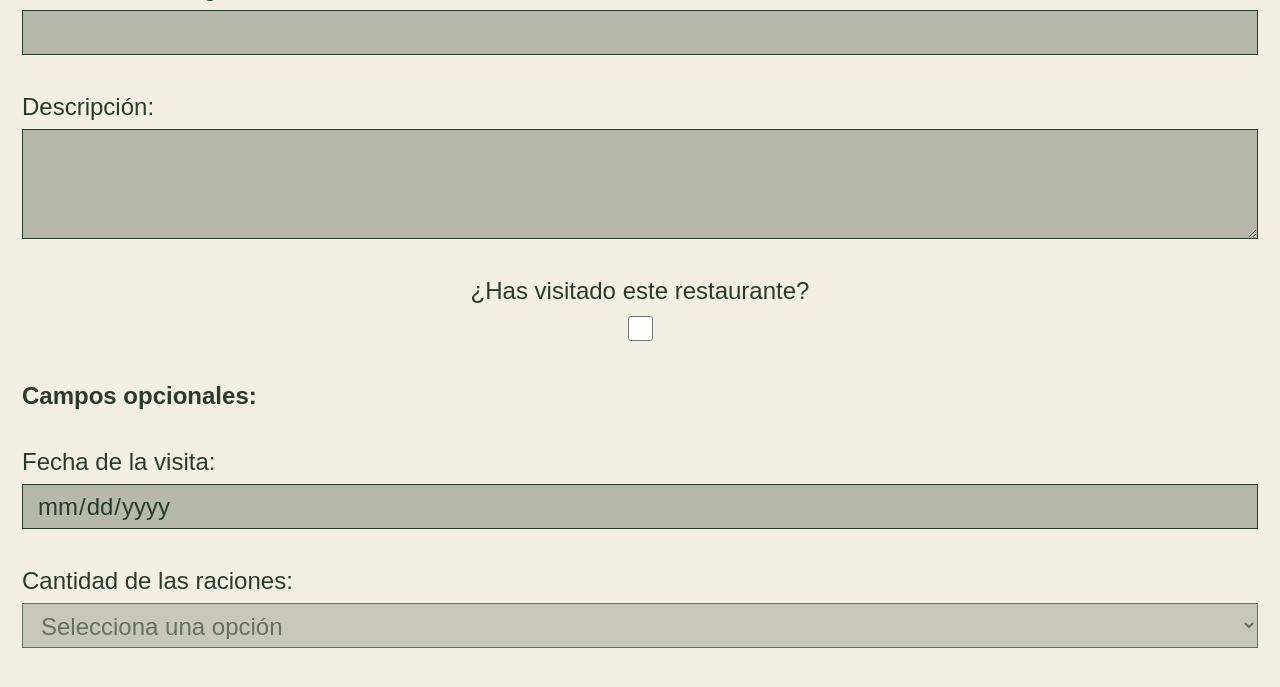
Test case: Given the RestaurantForm component › When it receives an action to add a new restaurant › And the user selects the checkbox › And the user types 3,89 as a rating › Then the restaurant rating value should be 3,9
This screenshot has width=1280, height=687.
(page scrolled)
Click the checkbox labelled "¿Has visitado este restaurante?": (640,328) [628,316,653,341]
(page scrolled)
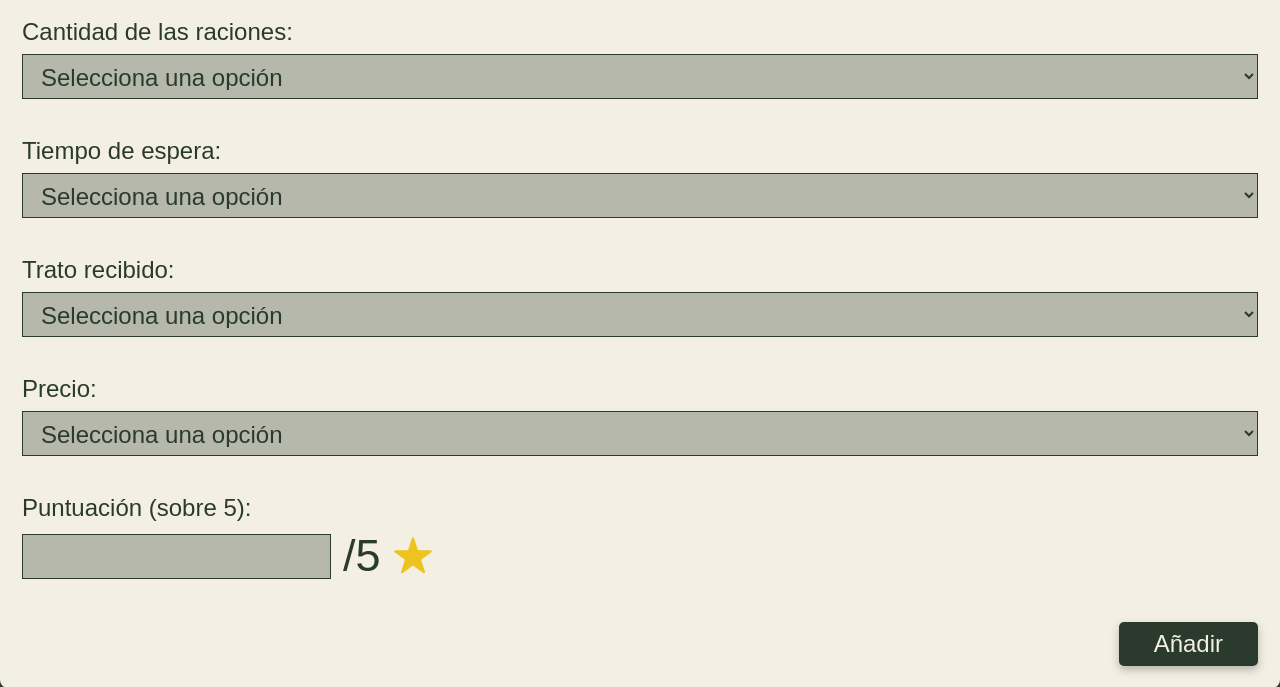
In the number field labelled "Puntuación (sobre 5):": (176,556) [22,534,331,578], type "3.89"
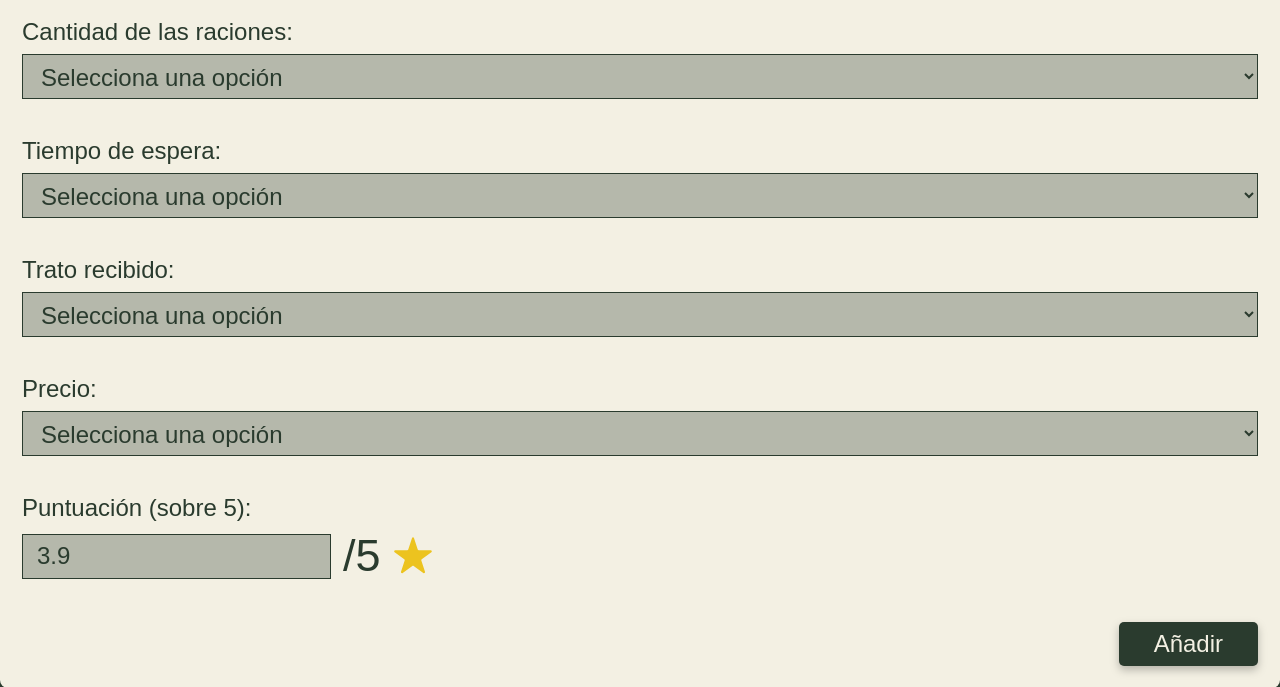
Now the number field labelled "Puntuación (sobre 5):" holds "3.9", box [22,534,331,578]
